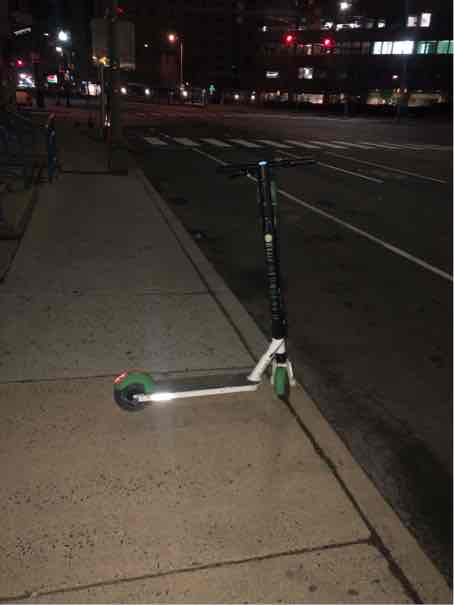too close: (234, 338, 319, 420)
